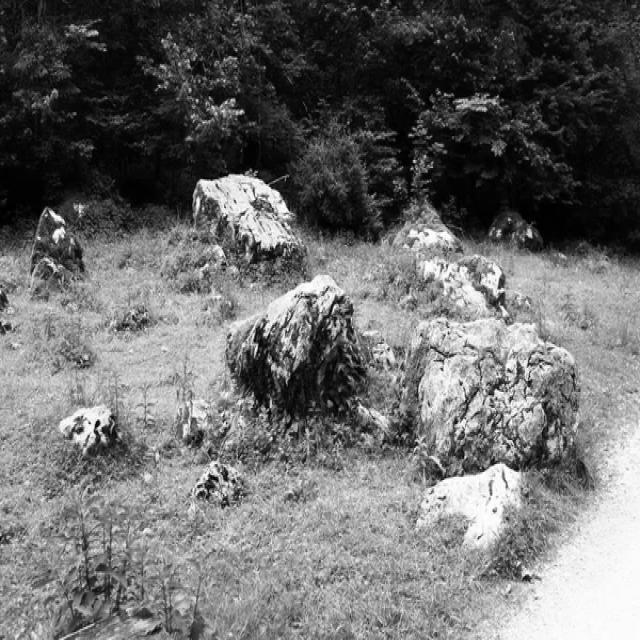Stone: (402, 318, 583, 469), (226, 275, 366, 417), (193, 174, 307, 261), (418, 464, 524, 548), (421, 254, 508, 320), (32, 206, 84, 272), (60, 408, 114, 457), (190, 461, 241, 506), (391, 219, 463, 249), (30, 258, 71, 300)
